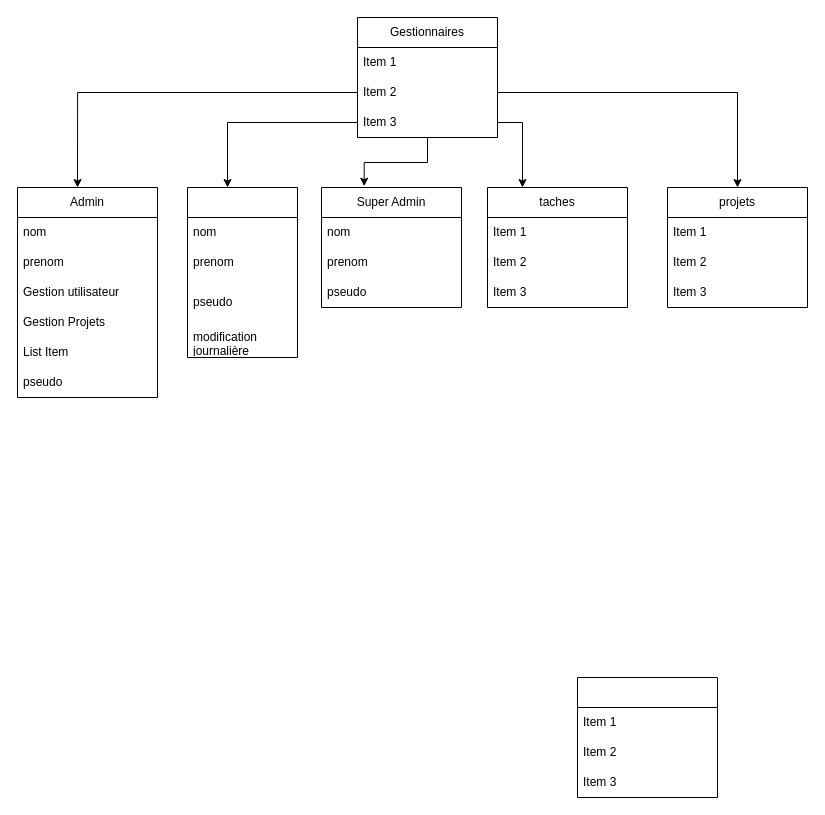
The diagram is 825 pixels wide and 815 high, and some of its shapes have lost their labels. The box of each missing label's shape, as (x1, y1, x2, y2) in pixels:
List: (576, 676, 718, 798)
Utilisateur: (186, 186, 298, 358)
